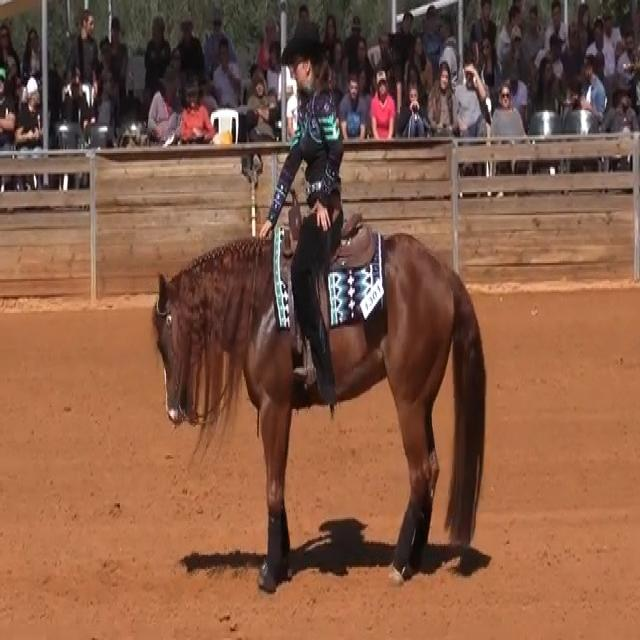horse: (149, 222, 488, 592)
